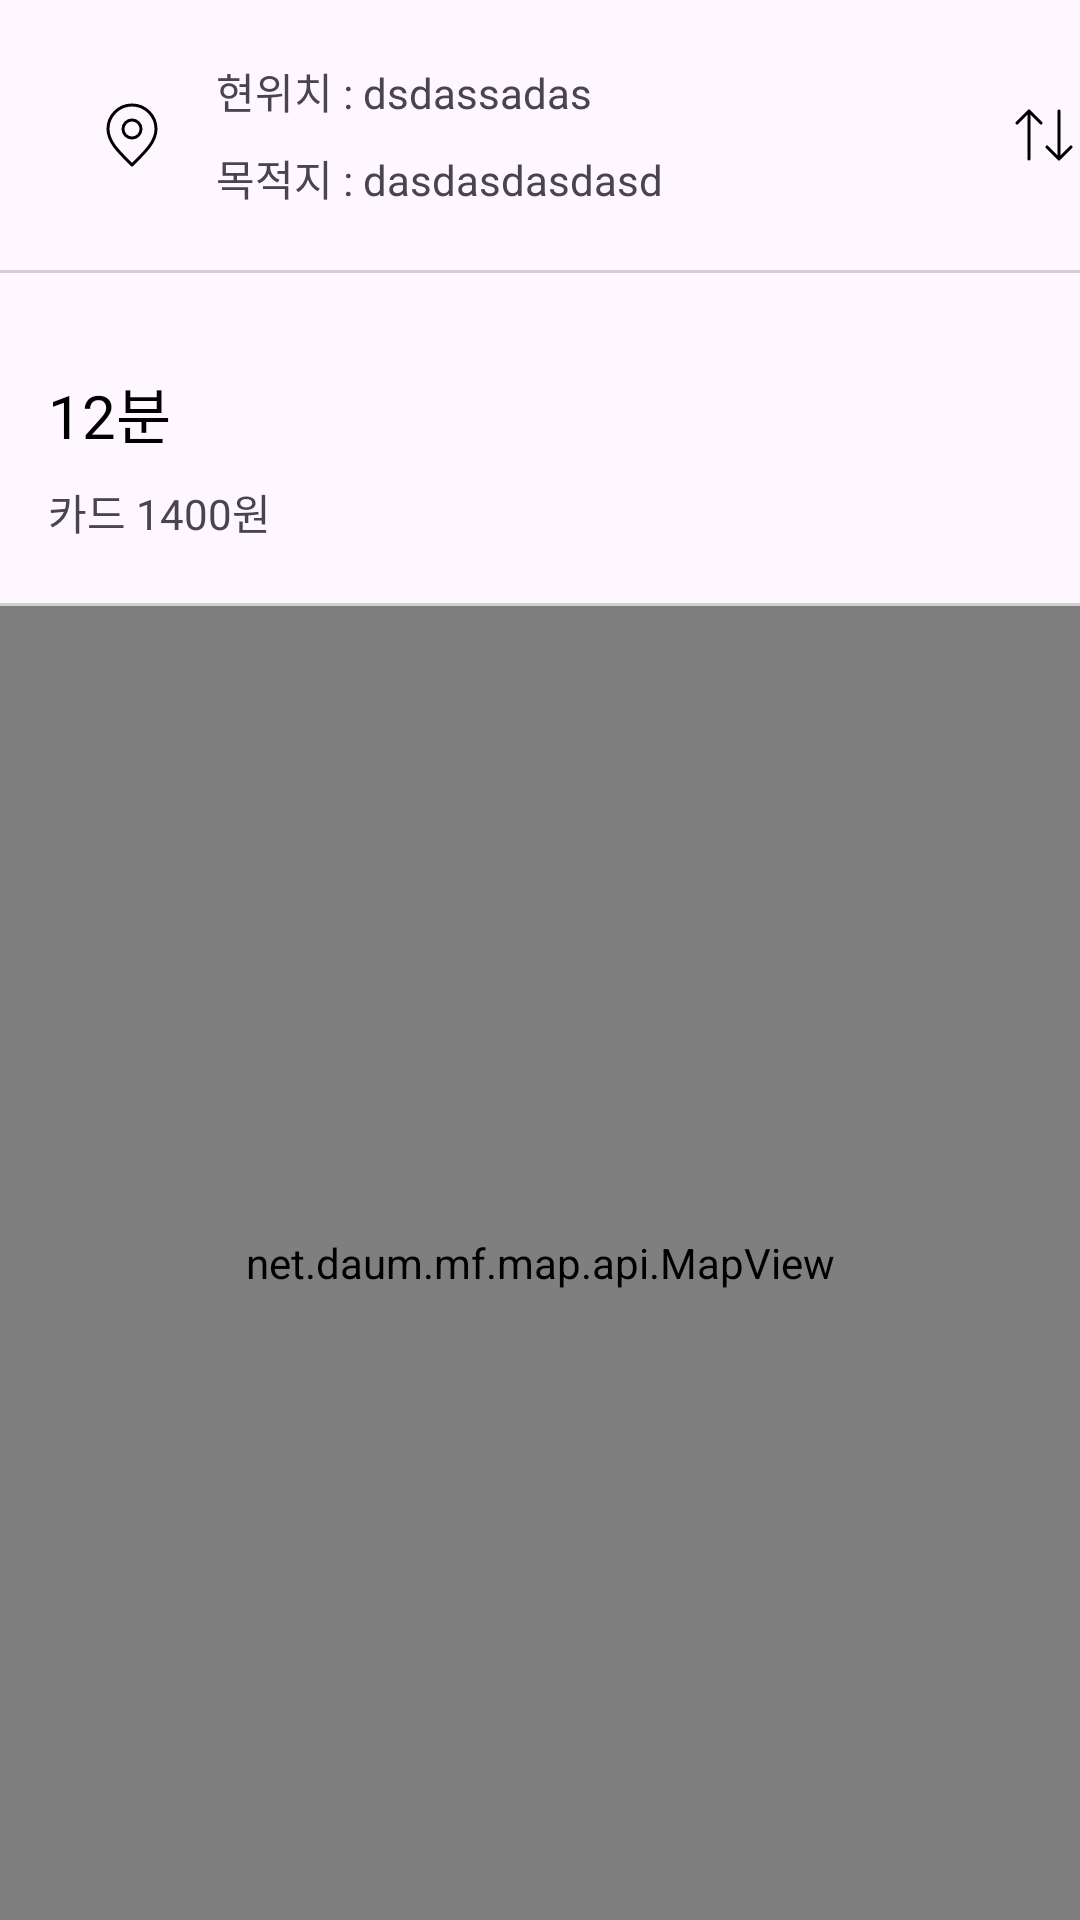

Icons on this 1080x1920 Android screen, each with the point to tap as (x=x, y=y):
marker pin: (x=132, y=135)
switch vertical: (x=1044, y=135)
